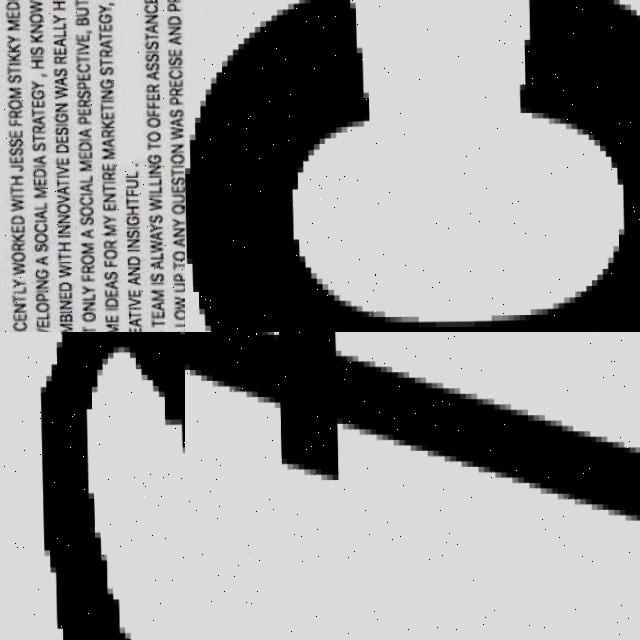3: (19, 332, 185, 640)
A: (32, 257, 46, 267), (54, 186, 68, 196), (52, 38, 66, 48), (125, 318, 139, 328), (170, 238, 184, 248), (168, 118, 182, 128), (166, 37, 180, 47), (101, 280, 116, 289), (31, 211, 45, 220), (78, 230, 92, 239), (99, 139, 113, 148), (98, 40, 112, 49), (147, 261, 161, 270), (143, 25, 157, 34), (77, 129, 89, 139), (53, 78, 66, 87), (126, 277, 137, 287), (149, 302, 160, 312), (145, 71, 156, 81), (31, 156, 43, 165), (30, 116, 42, 125), (78, 185, 90, 194), (149, 232, 160, 241)
B: (56, 314, 70, 323), (74, 17, 88, 26)
C: (185, 0, 640, 332), (74, 64, 90, 74), (142, 5, 158, 15), (9, 322, 25, 331), (31, 224, 45, 234), (167, 71, 181, 81), (77, 197, 91, 206)
D: (56, 282, 70, 293), (8, 216, 22, 226), (5, 1, 19, 11), (53, 144, 67, 154), (76, 142, 90, 152), (102, 298, 116, 308), (166, 18, 180, 28), (30, 170, 44, 179), (126, 257, 137, 267)
E: (101, 289, 117, 299), (53, 135, 68, 145), (102, 315, 118, 324), (100, 203, 116, 212), (75, 34, 89, 43), (125, 290, 139, 299), (168, 186, 182, 195), (9, 314, 25, 321), (8, 226, 23, 233), (74, 109, 91, 115), (96, 26, 113, 32), (7, 157, 21, 164), (54, 159, 68, 166), (6, 132, 22, 138), (74, 75, 90, 81), (99, 165, 115, 171), (147, 312, 163, 318), (166, 82, 181, 88), (166, 51, 181, 57), (5, 12, 19, 18), (30, 180, 44, 186), (29, 102, 43, 108), (56, 293, 70, 299), (76, 153, 90, 159), (99, 114, 113, 120), (144, 95, 158, 101), (34, 321, 46, 327), (53, 49, 65, 55), (142, 0, 158, 3), (125, 329, 139, 332)
F: (185, 332, 640, 550), (7, 119, 21, 126), (144, 111, 159, 117), (78, 276, 92, 282), (101, 261, 115, 267), (123, 191, 137, 197), (144, 103, 158, 109)
G: (31, 270, 47, 280), (144, 155, 160, 165), (29, 90, 43, 100), (98, 79, 112, 89), (53, 114, 67, 123), (97, 15, 111, 24), (123, 217, 137, 226)
H: (9, 175, 23, 186), (55, 242, 69, 252), (123, 207, 137, 217), (28, 60, 42, 69), (52, 2, 64, 11)
I: (74, 52, 89, 56), (77, 193, 91, 197), (76, 138, 90, 142), (102, 308, 116, 312), (146, 194, 160, 198), (146, 176, 160, 180), (166, 66, 180, 70), (57, 311, 70, 315), (9, 195, 21, 199), (33, 289, 45, 293), (32, 219, 44, 223), (31, 164, 43, 168), (29, 55, 41, 59), (56, 235, 68, 239), (55, 175, 67, 179), (54, 123, 66, 127), (101, 181, 113, 185), (149, 282, 161, 286), (126, 307, 137, 311), (125, 249, 136, 253), (125, 226, 136, 230), (6, 63, 20, 65), (57, 262, 69, 264), (4, 0, 18, 1), (99, 101, 113, 102), (168, 167, 182, 168), (145, 52, 156, 53)
J: (8, 166, 23, 172)
K: (5, 44, 19, 54), (5, 53, 20, 62), (9, 234, 23, 243), (28, 34, 42, 43), (99, 121, 113, 130)
L: (10, 287, 24, 294), (147, 253, 162, 259), (79, 295, 93, 301), (146, 187, 160, 193), (171, 321, 185, 327), (33, 313, 46, 319), (52, 24, 65, 30), (32, 204, 44, 210), (53, 32, 65, 38), (79, 177, 90, 183), (124, 172, 135, 178), (148, 180, 159, 186), (170, 329, 184, 332)
M: (76, 161, 91, 172), (6, 88, 20, 99), (5, 20, 19, 31), (30, 188, 44, 199), (99, 149, 113, 160), (78, 243, 92, 254), (148, 290, 162, 301), (102, 225, 114, 236), (55, 323, 69, 332), (102, 323, 116, 332)
N: (9, 303, 25, 314), (100, 194, 115, 204), (57, 300, 69, 311), (55, 225, 69, 234), (99, 91, 113, 100), (124, 268, 138, 277), (143, 15, 157, 24), (168, 145, 182, 154), (56, 214, 68, 224), (53, 103, 65, 113), (28, 25, 41, 34), (147, 165, 158, 175), (167, 26, 178, 36), (33, 280, 45, 289), (80, 302, 92, 311), (124, 240, 135, 249), (171, 229, 182, 238)
O: (144, 132, 161, 142), (168, 252, 185, 262), (78, 313, 94, 323), (101, 250, 116, 260), (170, 310, 185, 320), (6, 100, 20, 110), (33, 302, 47, 312), (31, 233, 45, 243), (54, 205, 68, 215), (78, 255, 92, 265), (77, 207, 91, 217), (145, 118, 159, 128), (168, 155, 182, 165), (9, 253, 23, 262), (28, 15, 42, 24)
P: (166, 97, 182, 106), (76, 116, 90, 125), (75, 82, 89, 91), (170, 274, 184, 283), (32, 295, 46, 301), (165, 6, 179, 12)
Q: (168, 205, 184, 216)
R: (6, 109, 21, 119), (29, 126, 43, 135), (78, 266, 92, 275), (101, 241, 115, 250), (99, 129, 113, 138), (98, 50, 112, 59), (167, 88, 181, 97), (53, 55, 65, 65), (9, 244, 23, 250), (75, 101, 89, 107), (100, 173, 114, 179), (144, 86, 158, 92), (165, 0, 179, 2)
S: (142, 54, 159, 63), (145, 215, 161, 224), (143, 63, 159, 72), (165, 58, 181, 67), (7, 147, 21, 157), (7, 137, 21, 147), (51, 68, 65, 78), (167, 110, 182, 119), (30, 143, 44, 152), (28, 47, 42, 56), (77, 218, 91, 227), (102, 272, 116, 281), (98, 67, 112, 76), (124, 230, 138, 239), (169, 178, 183, 187), (6, 76, 20, 83), (53, 128, 67, 135), (31, 246, 45, 252), (75, 93, 89, 99), (147, 275, 161, 281), (142, 43, 156, 49)
T: (97, 32, 113, 42), (123, 197, 137, 207), (168, 168, 182, 178), (29, 134, 44, 143), (29, 109, 43, 118), (75, 56, 89, 65), (100, 185, 114, 194), (98, 103, 112, 112), (98, 58, 112, 67), (125, 311, 139, 320), (148, 320, 162, 329), (143, 33, 157, 42), (170, 262, 184, 271), (10, 296, 24, 303), (8, 187, 22, 194), (6, 68, 20, 75), (72, 0, 88, 6), (55, 254, 70, 260), (54, 181, 68, 187), (79, 326, 93, 332), (147, 143, 158, 149)
U: (73, 8, 89, 18), (171, 284, 185, 294), (169, 195, 183, 205), (124, 180, 135, 189)
V: (54, 195, 69, 206), (54, 166, 68, 176), (74, 43, 88, 52), (125, 299, 139, 308), (32, 329, 46, 332)
W: (8, 198, 22, 213), (9, 262, 23, 276), (56, 266, 70, 279), (27, 1, 41, 13), (53, 87, 67, 99), (147, 241, 161, 253), (146, 199, 160, 211), (167, 128, 181, 140), (172, 297, 183, 311)
Y: (5, 35, 19, 46), (9, 279, 24, 289), (169, 218, 184, 228), (52, 15, 66, 25), (29, 81, 44, 90), (79, 286, 93, 295), (97, 5, 111, 14), (102, 215, 114, 225), (147, 225, 161, 231)
